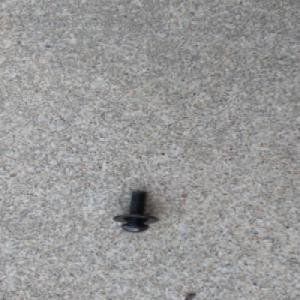BoltWasher: (109, 188, 157, 233)
